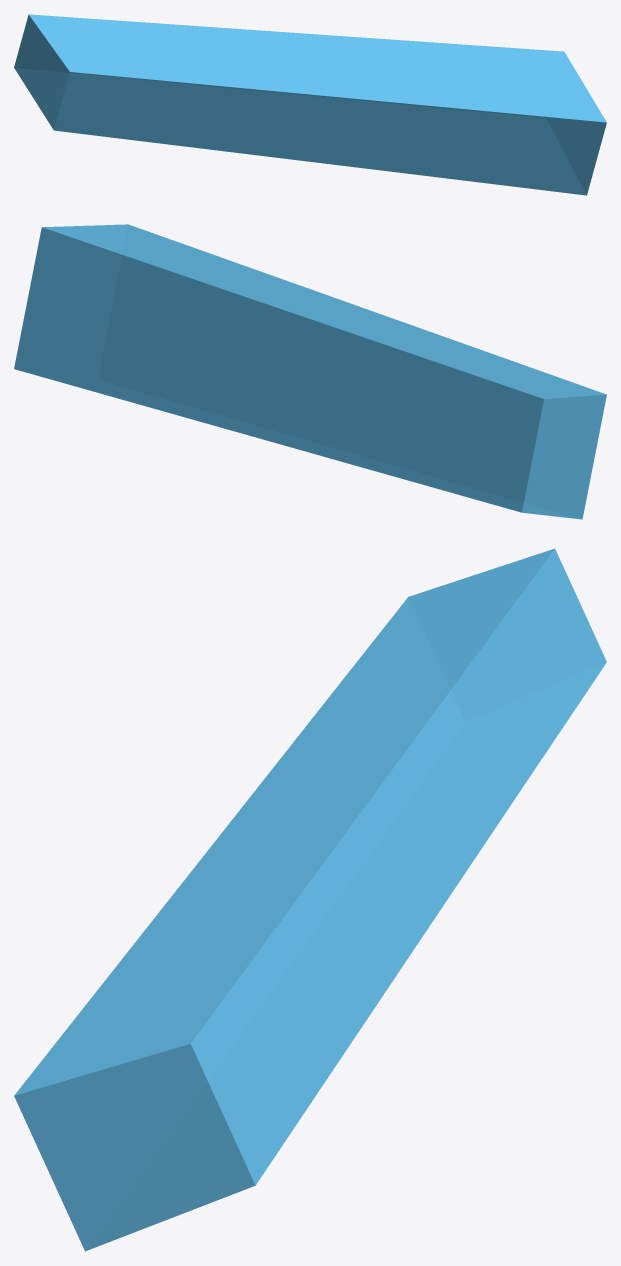
Rendered from Event_421127236_HErechit_32.fbx.
3 renders of one model, top to bottom at view 1: azimuth 30°, elevation 25°; view 2: azimuth 150°, elevation 25°; view 3: azimuth 270°, elevation 25°, orthographic. The views are drawn at different scales.
Visible parts, largest first — view 1: Model; view 2: Model; view 3: Model.
Part boxes in pixels (x1,y1,x2,y2): Model: (14,14,606,195); Model: (14,224,606,519); Model: (14,548,606,1251).
Bounding box in the file's own units: 2.71 × 1.12 × 1.81.
